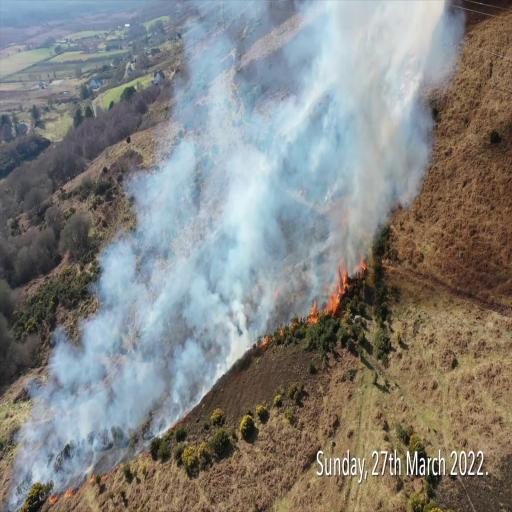fire: (324, 262, 350, 318)
smoke: (90, 134, 253, 438), (294, 0, 464, 280), (13, 324, 155, 490), (224, 283, 262, 369)
